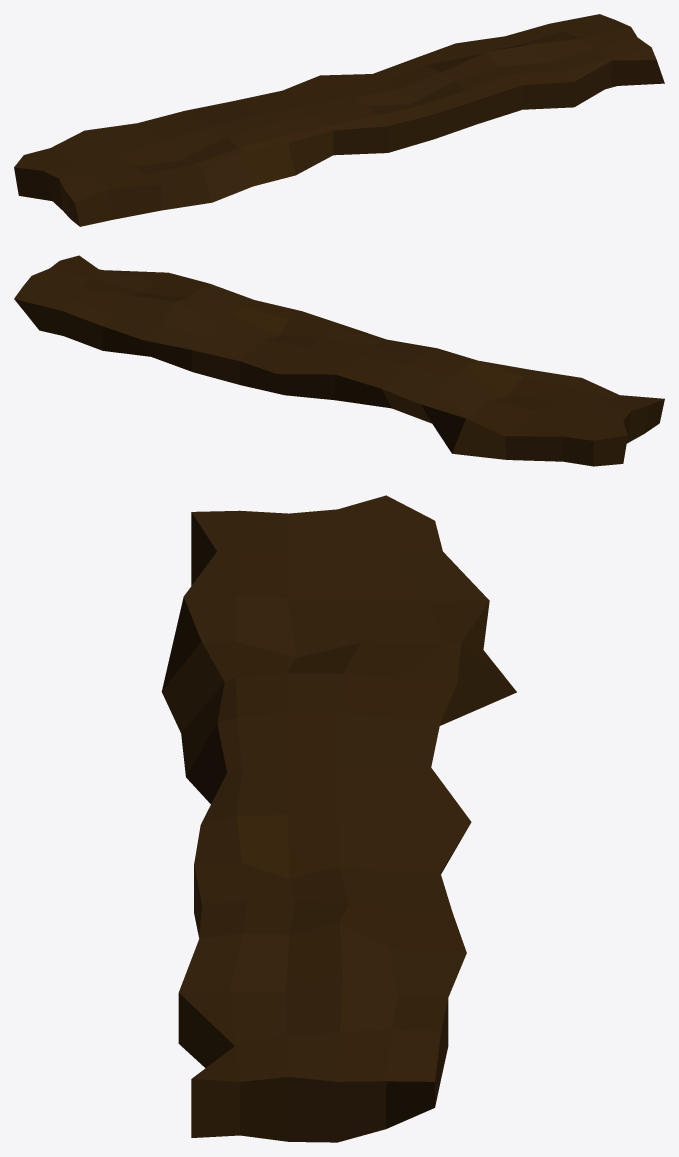
Rendered from Plank3.glb.
3 views of the same model, one above another, from view 1: azimuth 30°, elevation 25°; view 2: azimuth 150°, elevation 25°; view 3: azimuth 270°, elevation 25° (orthographic). The views are drawn at different scales.
Visible parts, largest first — view 1: Plank_3; view 2: Plank_3; view 3: Plank_3.
Boxes of the visible parts, x1,y1,x2,y2 form: Plank_3: [14, 14, 664, 226]; Plank_3: [14, 255, 664, 466]; Plank_3: [161, 495, 516, 1142].
Size of the model in its own units: 1.41 by 0.1109 by 0.358.
